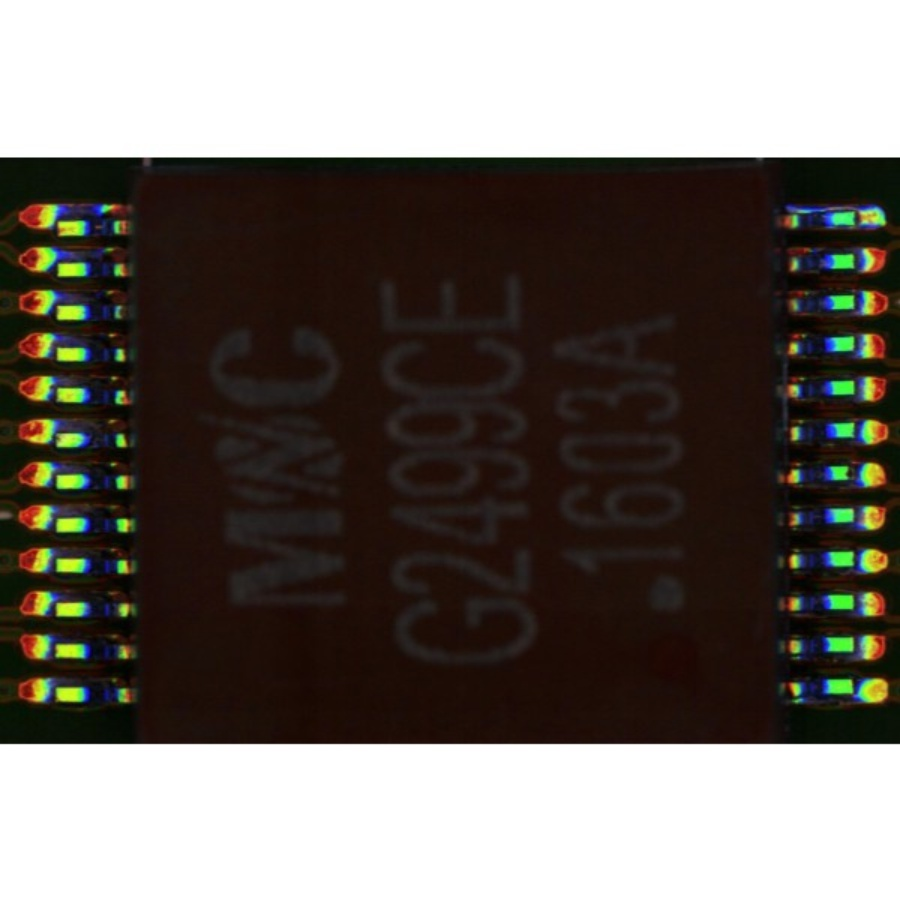Bad_podu: (848, 211, 868, 223)
Bad_qiaojiao: (788, 205, 855, 212)
